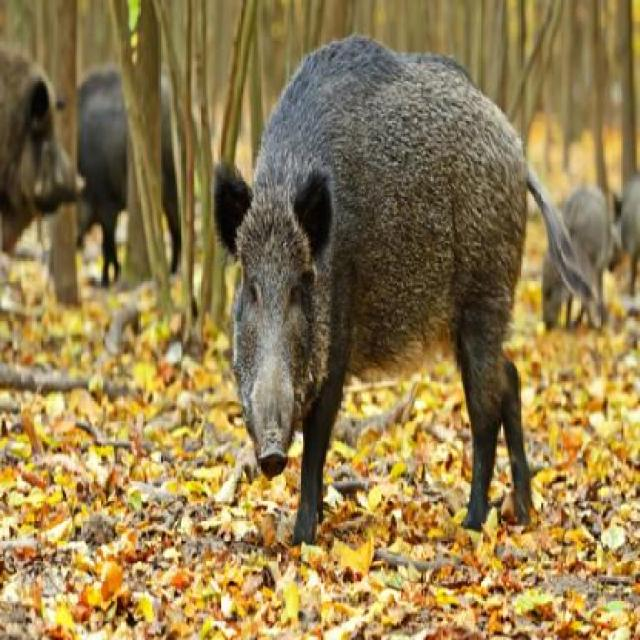wildboar: (211, 32, 600, 550), (50, 60, 198, 295), (1, 31, 84, 262), (539, 183, 623, 343), (604, 167, 640, 307)
